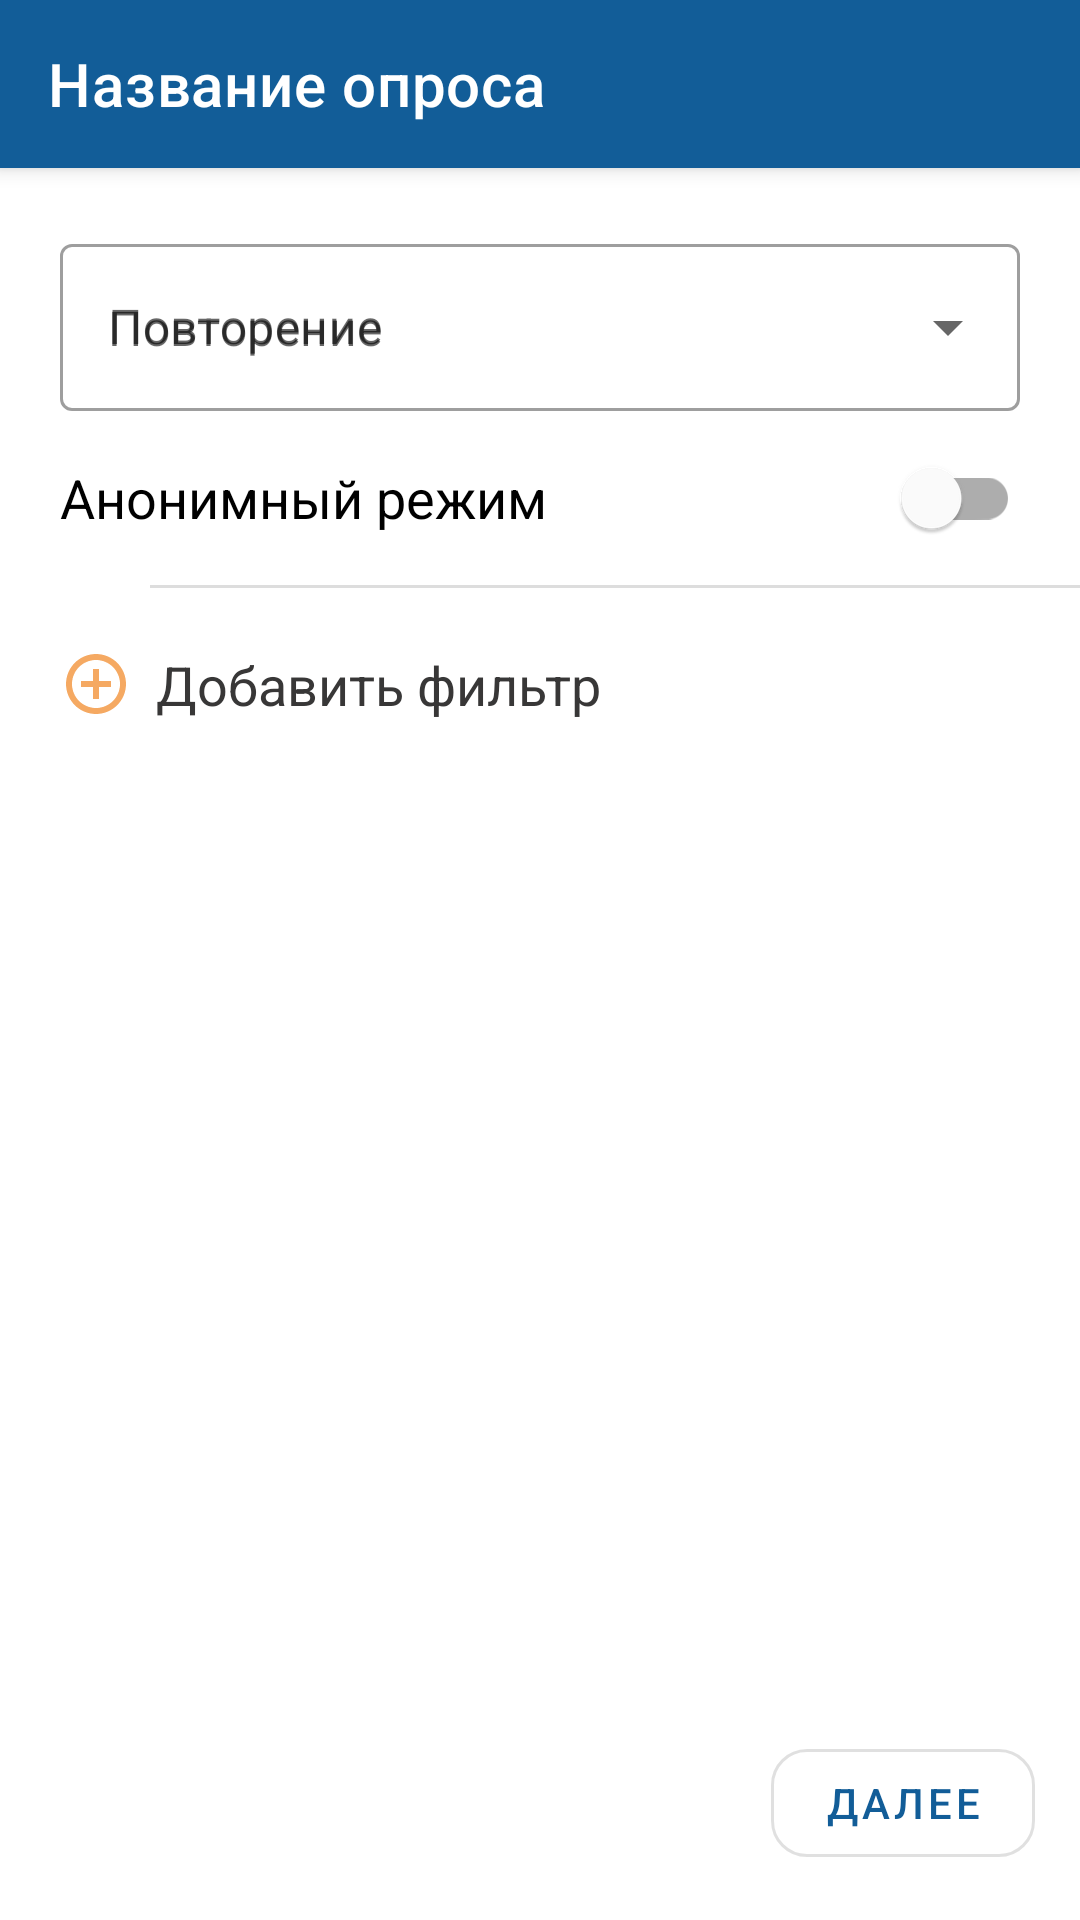

Where to tap for icons on this 1080px×1920px app screen, as (x=x, y=y):
add circle: (x=96, y=684)
